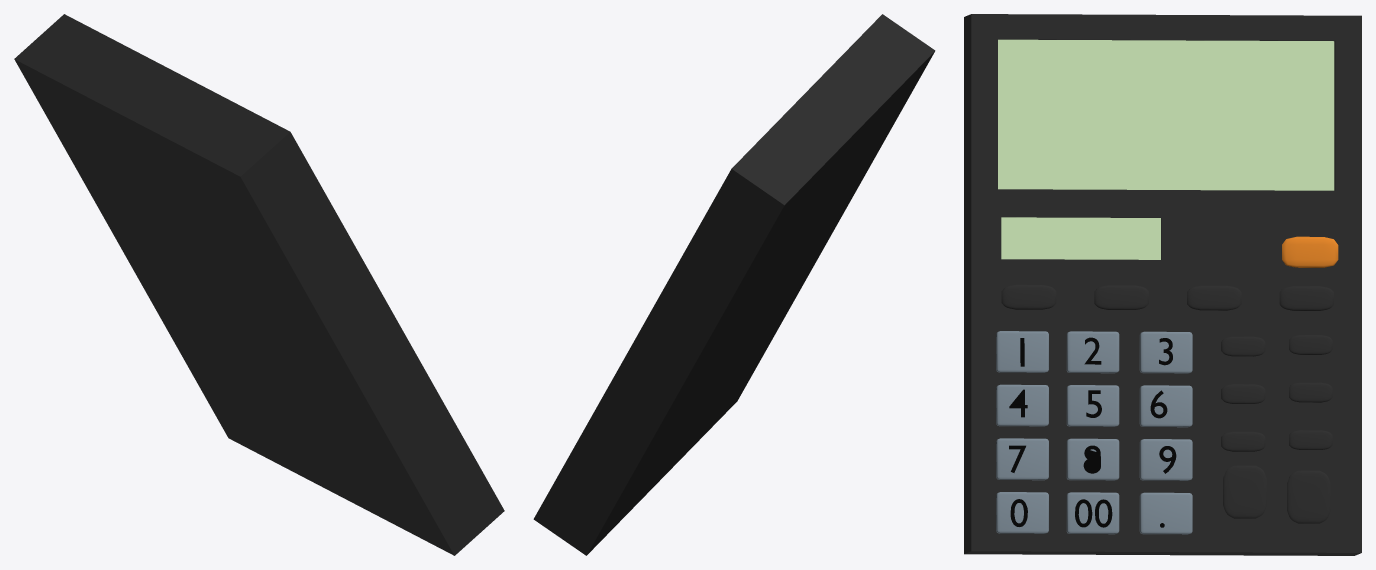
File: calculadora.fbx
3 renders of one model, left to right at view 1: azimuth 30°, elevation 25°; view 2: azimuth 150°, elevation 25°; view 3: azimuth 270°, elevation 25°, orthographic. The views are drawn at different scales.
Visible parts, largest first — view 1: Cube.009; view 2: Cube.009; view 3: Cube.009.
Part boxes in pixels (left/top/right/bottom): Cube.009: left=14, top=14, right=504, bottom=555; Cube.009: left=533, top=14, right=935, bottom=555; Cube.009: left=964, top=14, right=1361, bottom=555.
Size of the model in its own units: 250 by 381 by 287.
